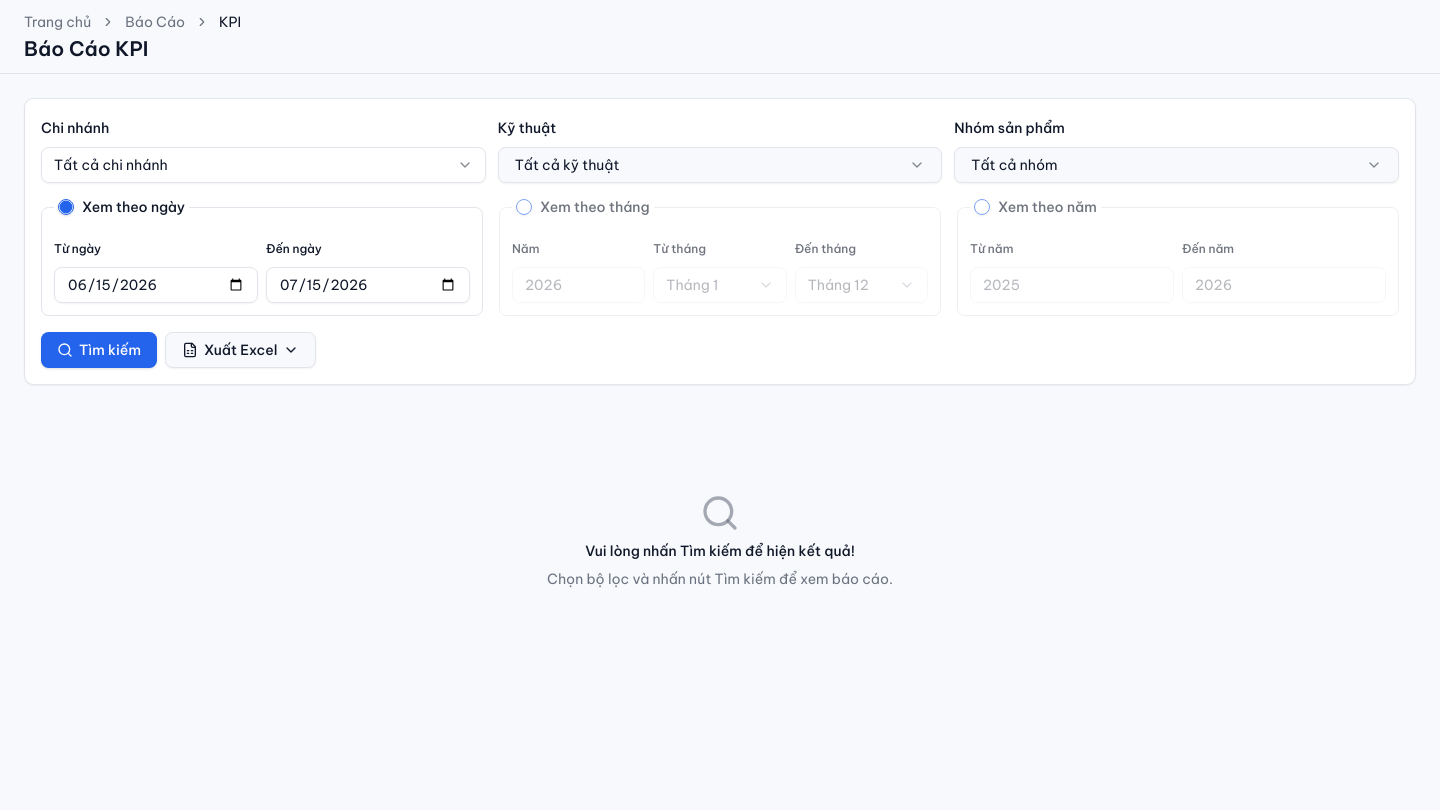
KpiReportPage › Nhóm sản phẩm popover lists all 13 groups
Click the dropdown named "Nhóm sản phẩm".
click(1014, 165)  # box [954, 147, 1399, 183]
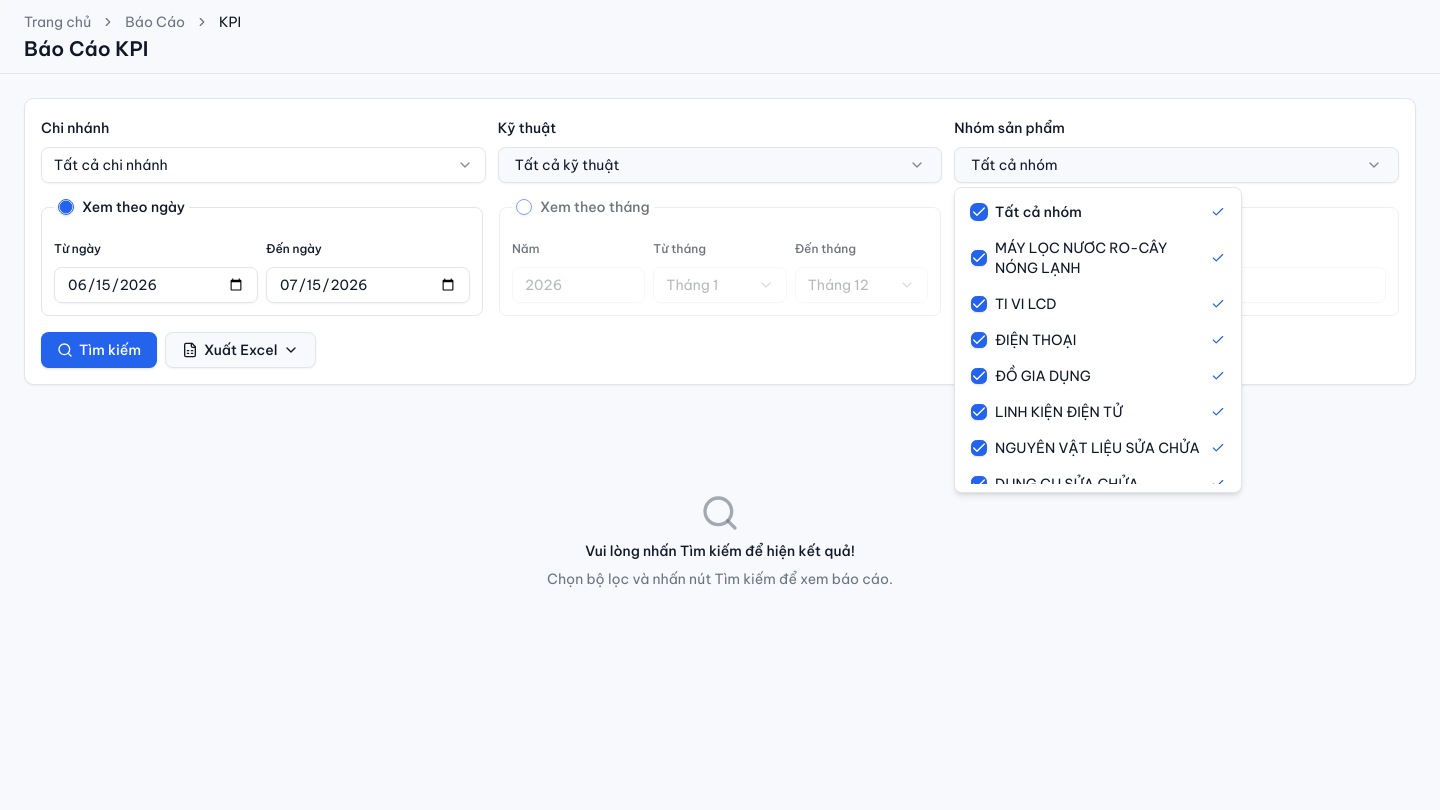
Expected: the text "MÁY LỌC NƯƠC RO-CÂY NÓNG LẠNH" is shown, [995, 239, 1167, 277]
Expected: the text "TI VI LCD" is shown, [995, 295, 1056, 313]
Expected: the text "ĐIỆN THOẠI" is shown, [995, 331, 1076, 349]
